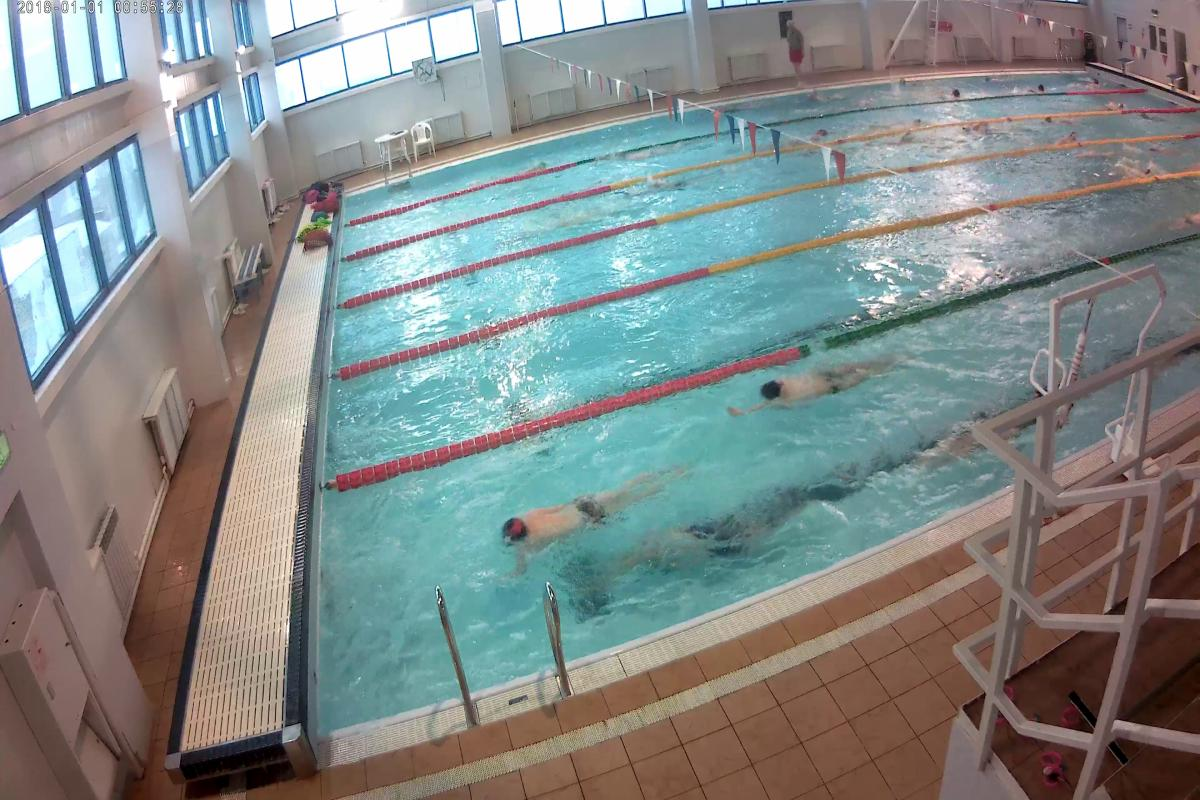swimmer: (626, 502, 795, 600), (465, 499, 651, 537), (739, 354, 910, 390), (920, 403, 1000, 470)
